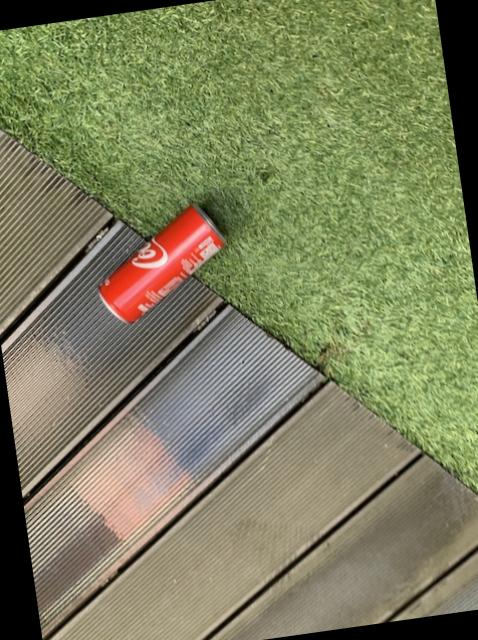metal: (100, 206, 224, 321)
